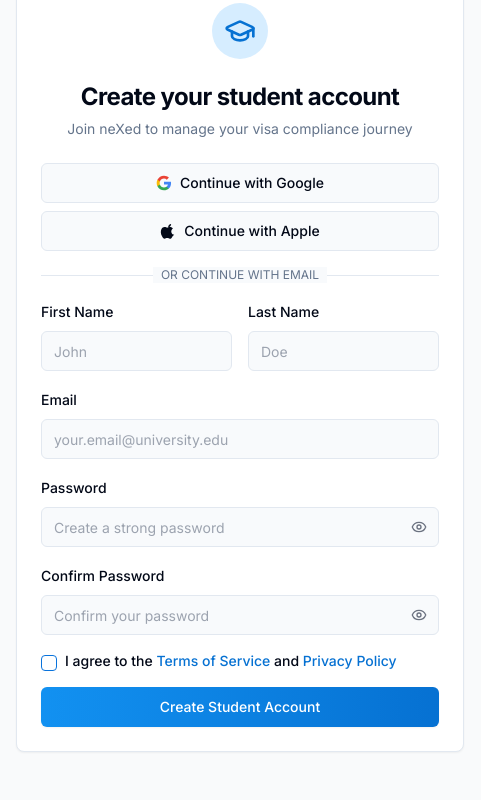
Scenario: Signup Page › clears field-specific error when user starts typing in that field
(page scrolled)
Trigger validation errors
Click the button "Create Student Account". click: {"x": 240, "y": 707}
box: [41,687,439,727]
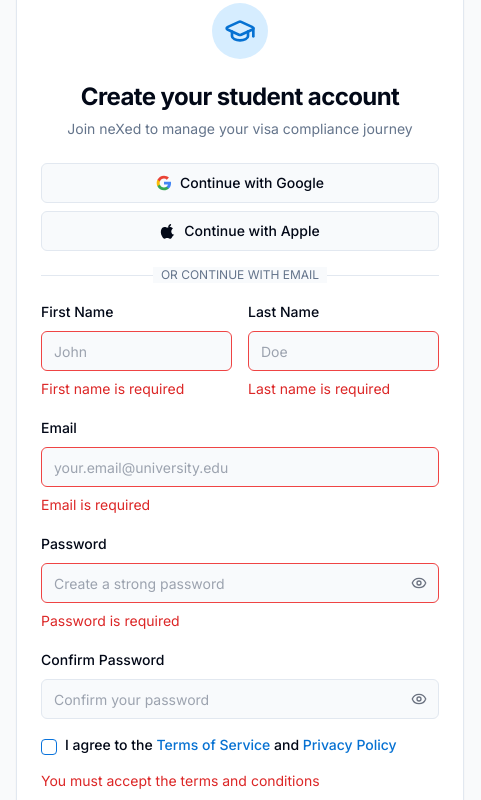
Expected: the text "First name is required" is shown, [41,380,184,397]
Start typing in first name to clear its error
Type "J" into the field labelled "First Name". click: {"x": 136, "y": 351}
box: [41,331,232,371]
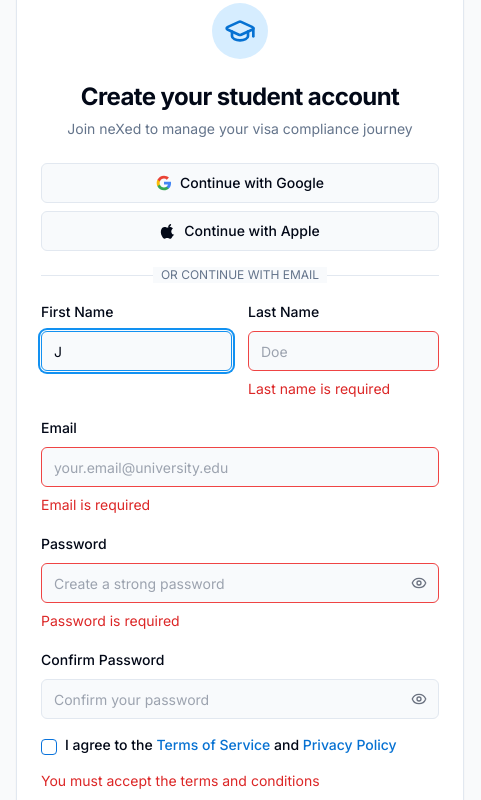
Expected: the text "First name is required" is gone
